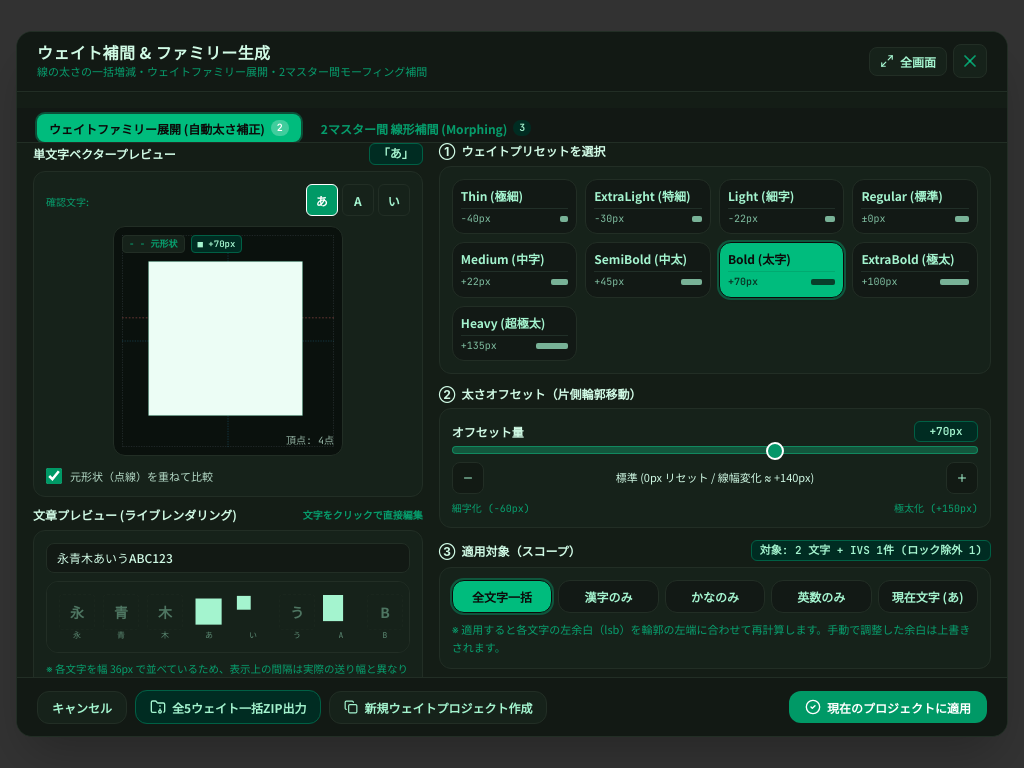
Weight Interpolation & Family Settings Audit Fixes › WeightInterpolationModal preserves metadata on partial scope, scales delta for 2048 UPM, supports ExtraLight preset, and prefers onCommitBatchHistory with IVS
Later steps or results of the test are not shown.
Check: the button "ExtraLight (特細) -30px" is shown, box [585, 179, 711, 234]
Click the button "かなのみ" at [715, 597], box [665, 580, 765, 613]
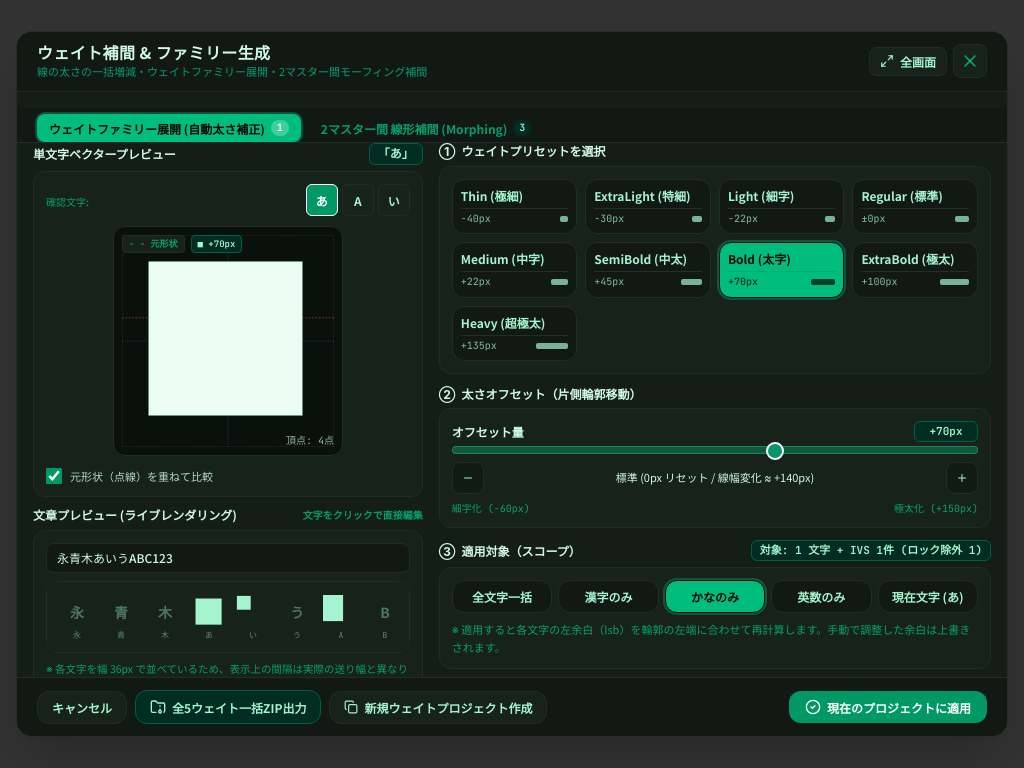
Check: the text "対象: 1 文字 + IVS 1件 (ロック除外 1)" is shown, box [751, 540, 991, 561]
